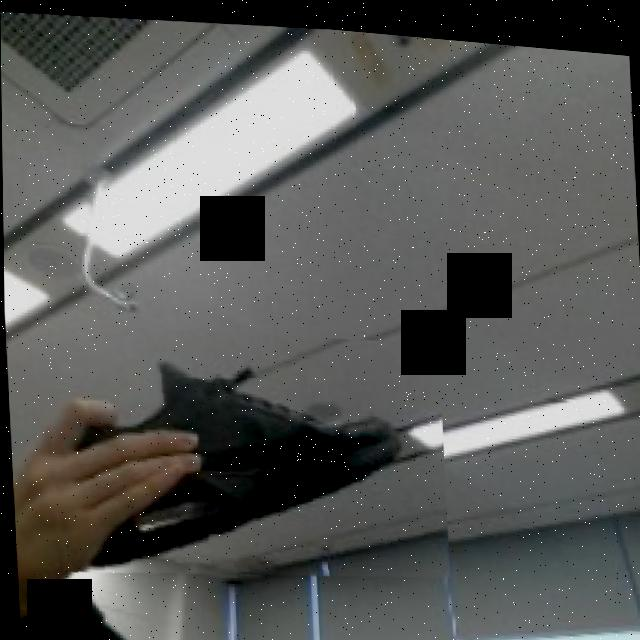shoe: (38, 307, 449, 598)
